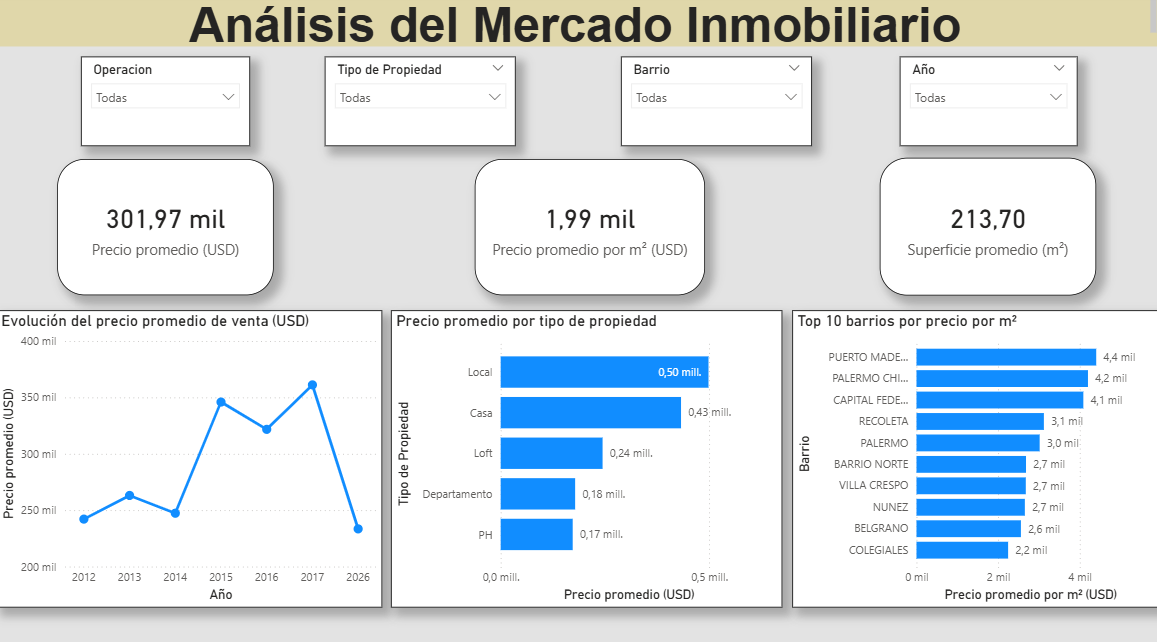

What the dashboard file says about the page in this screenshot:
{"tool":"powerbi","page":{"name":"Página 1","canvas":[1280,720],"ordinal":0},"visuals":[{"type":"textbox","box":[0,0,1280.3,57.6],"z":0},{"type":"slicer","fields":{"Values":["Sheet1.tipo_operacion"]},"box":[93.3,68.6,185.2,98.8],"z":1},{"type":"slicer","fields":{"Values":["Sheet1.tipo_propiedad"]},"box":[360.9,68.6,209.9,98.8],"z":2},{"type":"slicer","fields":{"Values":["Sheet1.barrio"]},"box":[686.1,68.6,209.9,98.8],"z":3},{"type":"slicer","fields":{"Values":["Sheet1.año"]},"box":[992.1,68.6,194.9,98.8],"z":4},{"type":"card","fields":{"Values":["Avg(Sheet1.precio_usd_prom)"]},"box":[67.2,181.1,237.4,149.6],"z":5},{"type":"card","fields":{"Values":["Avg(Sheet1.usd_m2_prom)"]},"box":[525.6,181.1,252.5,149.6],"z":6},{"type":"card","fields":{"Values":["Avg(Sheet1.m2_total_prom)"]},"box":[970.2,179.8,237.4,150.9],"z":7},{"type":"lineChart","title":"Evolución del precio promedio de venta (USD)","fields":{"Category":["Sheet1.año"],"Y":["Avg(Sheet1.precio_usd_prom)"]},"box":[0,347.2,424,326.6],"z":8},{"type":"barChart","title":"Precio promedio por tipo de propiedad","fields":{"Category":["Sheet1.tipo_propiedad"],"Y":["Avg(Sheet1.precio_usd_prom)"]},"box":[433.6,347.2,429.5,326.6],"z":9},{"type":"barChart","title":"Top 10 barrios por precio por m²","fields":{"Category":["Sheet1.barrio"],"Y":["Avg(Sheet1.usd_m2_prom)"]},"box":[874.1,347.2,406.2,326.6],"z":10}]}

Visuals, with their boxes in screenshot pixels (x1, y1, x2, y2), scaled from the page's 1280x720 canvas onto the 1157x642 screenshot:
textbox: (0,0,1156,51)
slicer - Sheet1.tipo_operacion: (84,61,252,149)
slicer - Sheet1.tipo_propiedad: (326,61,516,149)
slicer - Sheet1.barrio: (620,61,810,149)
slicer - Sheet1.año: (897,61,1073,149)
card - Avg(Sheet1.precio_usd_prom): (61,161,275,295)
card - Avg(Sheet1.usd_m2_prom): (475,161,703,295)
card - Avg(Sheet1.m2_total_prom): (877,160,1092,295)
"Evolución del precio promedio de venta (USD)" lineChart: (0,310,383,601)
"Precio promedio por tipo de propiedad" barChart: (392,310,780,601)
"Top 10 barrios por precio por m²" barChart: (790,310,1156,601)
